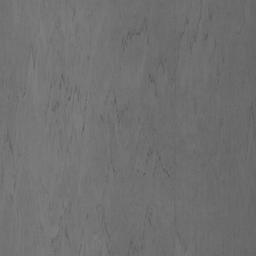Silk spot: (0, 0, 256, 202), (24, 168, 197, 256), (145, 0, 231, 106)
